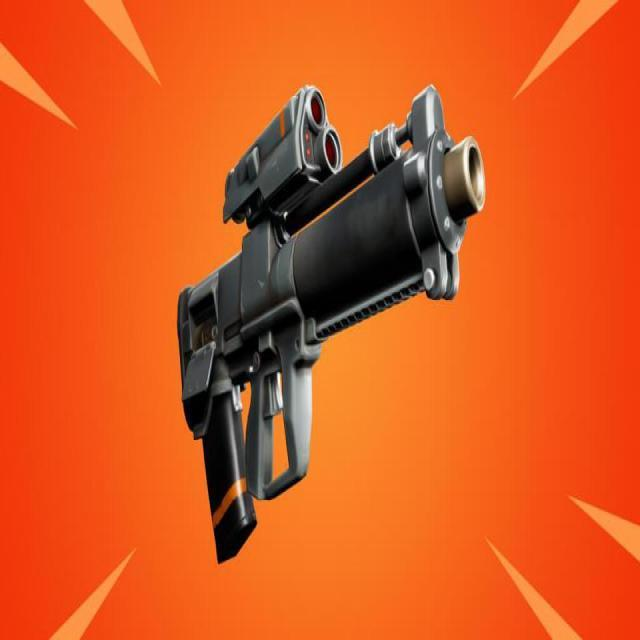smg: (175, 78, 492, 582)
